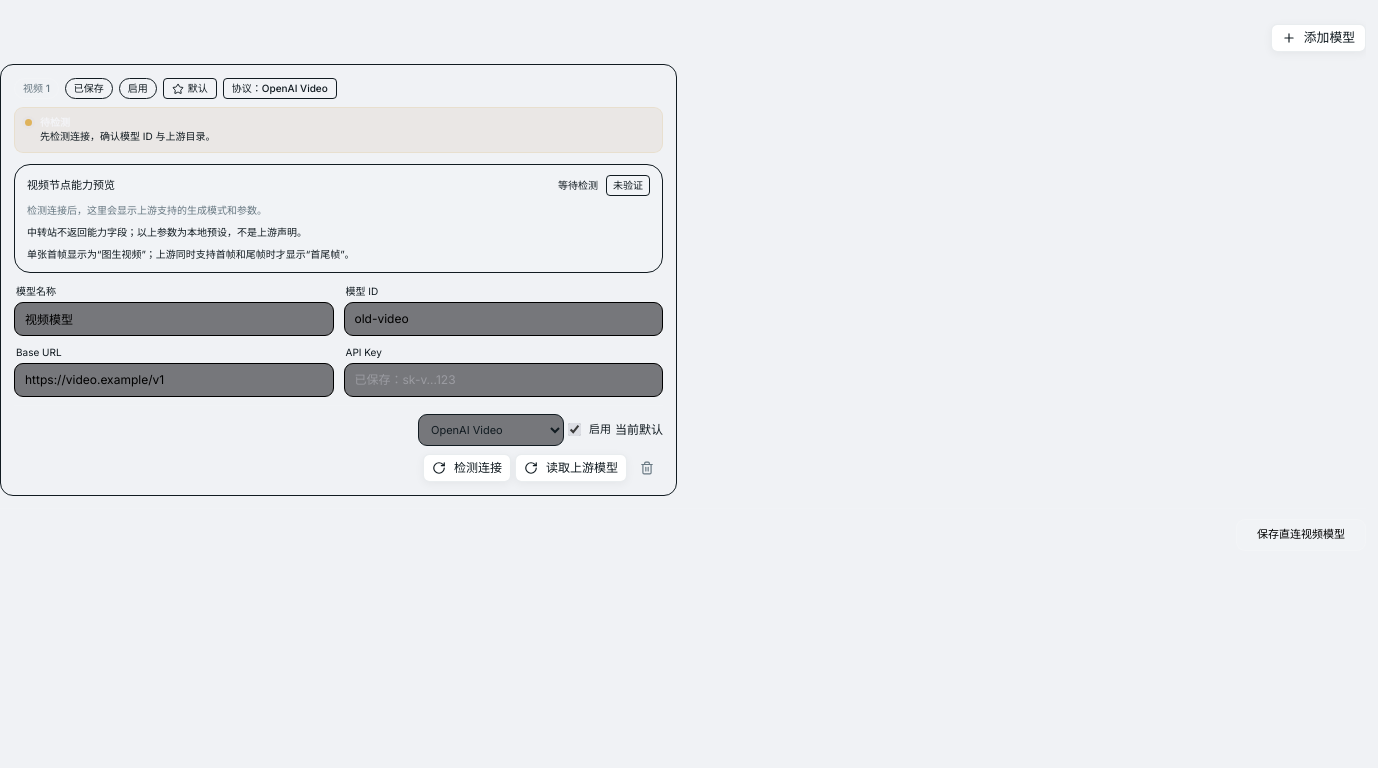
it: Village direct non-video model panel › reads and fills a video model without submitting generation
Click the button "读取上游模型".
click(571, 468)  # box [515, 454, 627, 482]
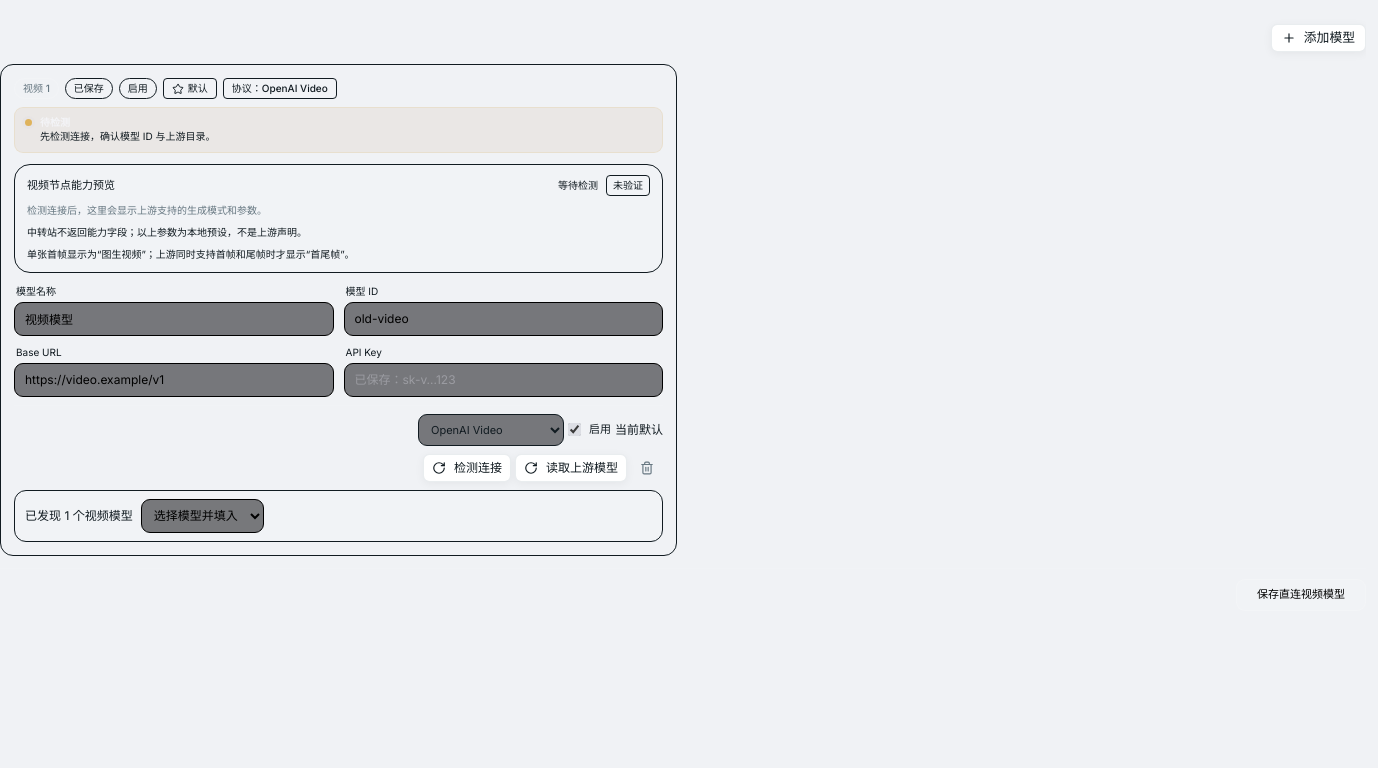
Select "video-pro" in the dropdown named "选择上游视频模型并填入" at point(202, 516), box [141, 498, 264, 532]
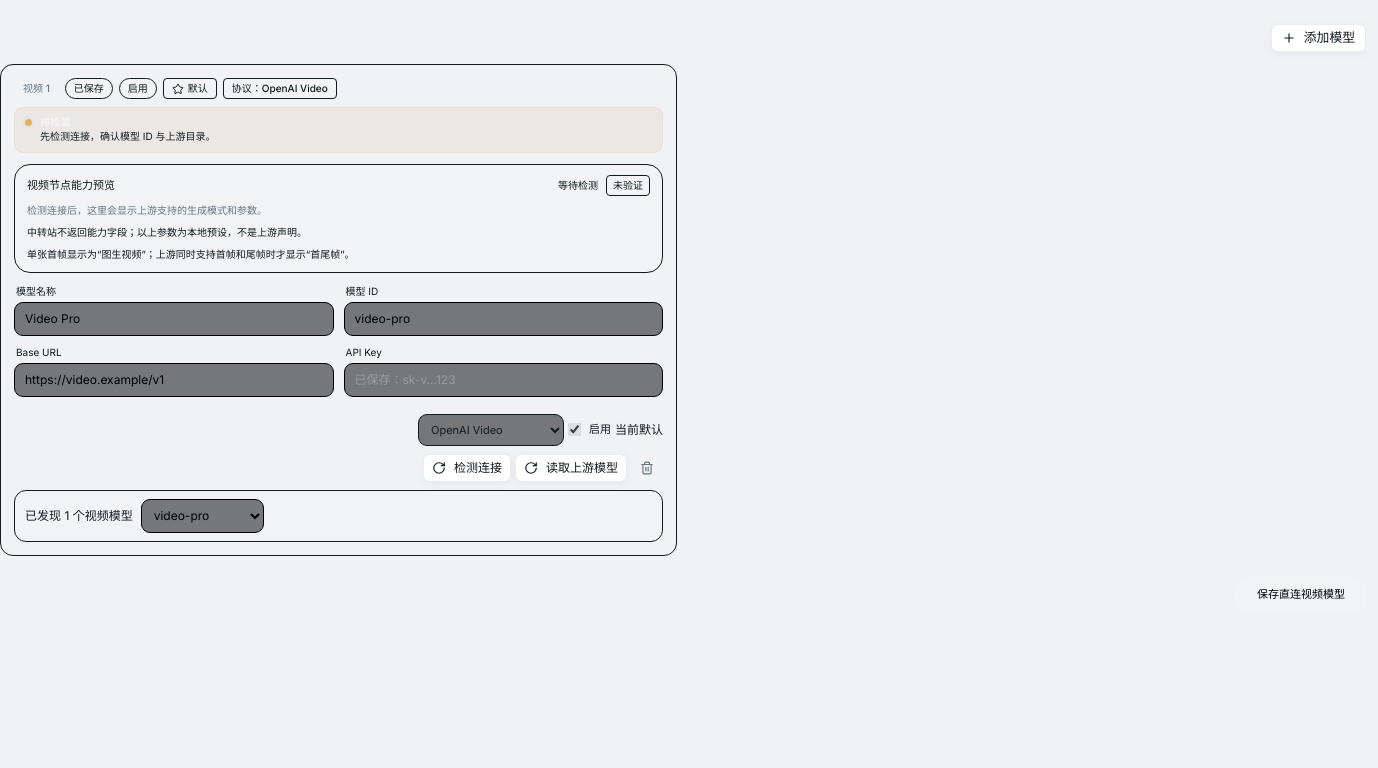
Result: the field named "直连视频模型 ID" holds "video-pro" at [344, 302, 663, 336]
Result: the field named "直连视频模型名称" holds "Video Pro" at [14, 302, 334, 336]
